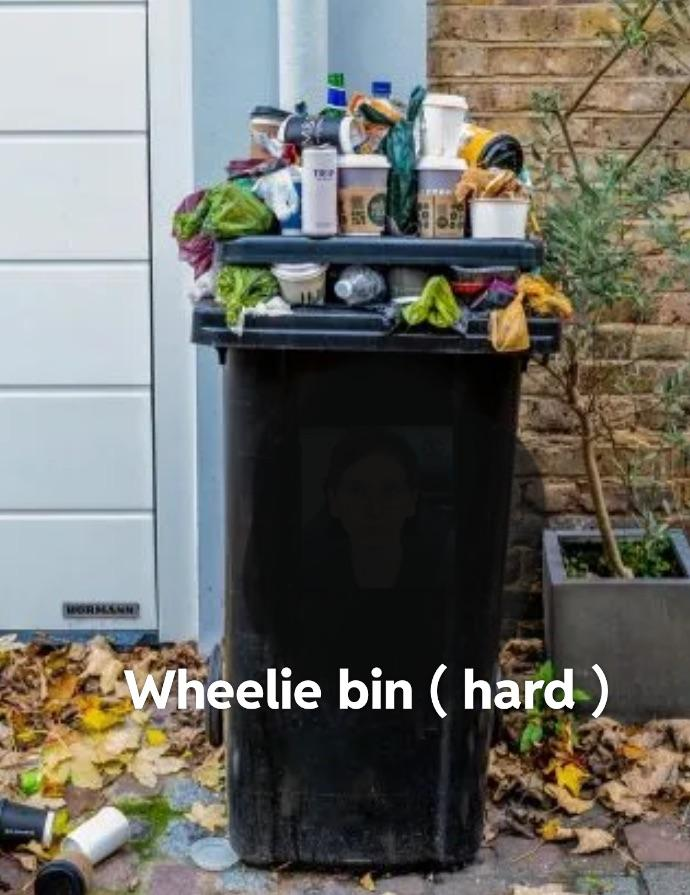bin_full: (164, 79, 571, 870)
normal_waste: (0, 391, 151, 510), (337, 154, 388, 235), (416, 155, 466, 237), (63, 807, 130, 863), (278, 114, 364, 153), (302, 147, 337, 236), (421, 93, 467, 156), (0, 798, 54, 848), (34, 852, 92, 894), (470, 198, 528, 237), (271, 264, 326, 303), (249, 106, 287, 158)
